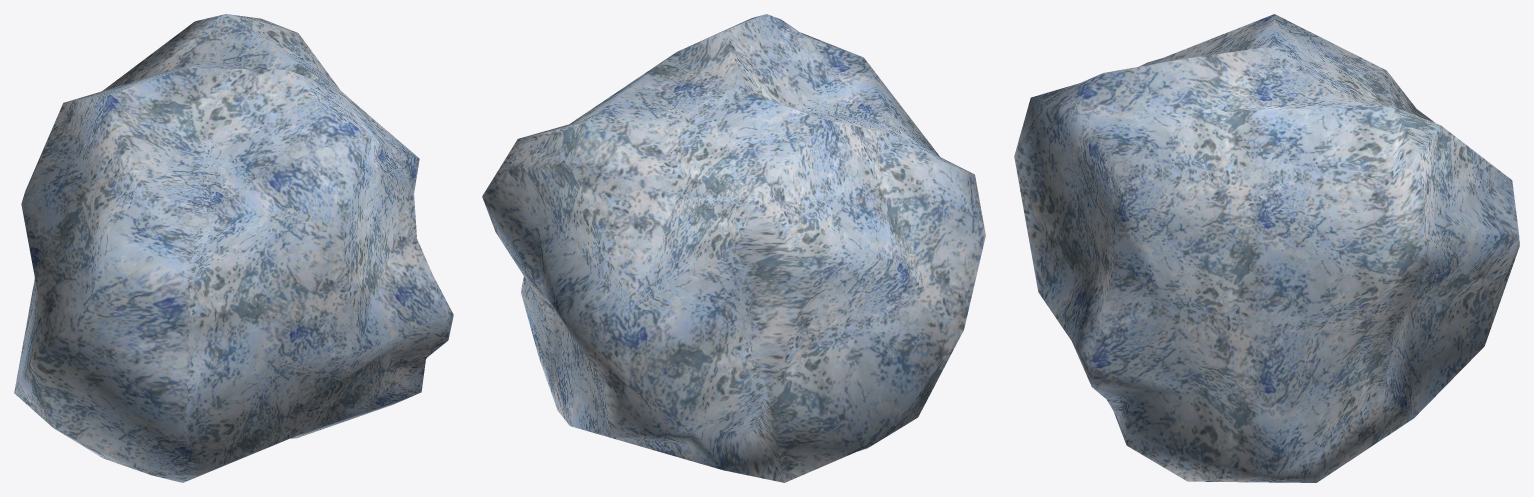
Rendered from asteroid_ice_large_s01_l2.fbx.
3 renders of one model, left to right at view 1: azimuth 30°, elevation 25°; view 2: azimuth 150°, elevation 25°; view 3: azimuth 270°, elevation 25°, orthographic. The views are drawn at different scales.
Visible parts, largest first — view 1: mesh_node; view 2: mesh_node; view 3: mesh_node.
Part boxes in pixels (x1,y1,x2,y2): mesh_node: (14,14,453,482); mesh_node: (482,14,985,482); mesh_node: (1014,14,1519,482).
Bounding box in the file's own units: 139 × 127 × 145.
